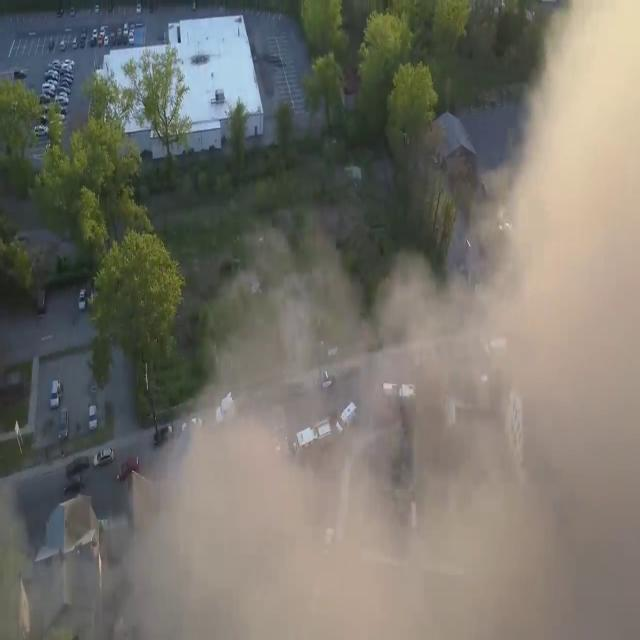Smoke: (102, 25, 640, 640)
